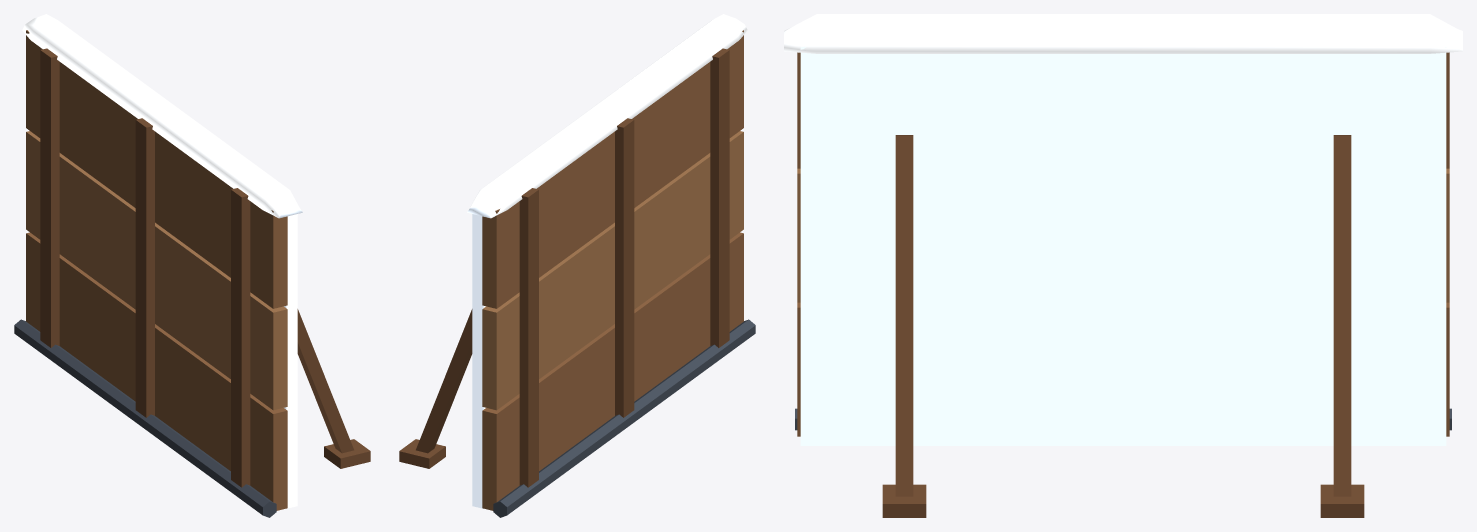
File: ski-ramp-folded.glb
3 renders of one model, left to right at view 1: azimuth 30°, elevation 25°; view 2: azimuth 150°, elevation 25°; view 3: azimuth 270°, elevation 25°, orthographic. The views are drawn at different scales.
Visible parts, largest first — view 1: ski-ramp-folded; view 2: ski-ramp-folded; view 3: ski-ramp-folded.
Boxes of the visible parts, <box> form: ski-ramp-folded: <box>14,14,370,517</box>; ski-ramp-folded: <box>399,14,755,517</box>; ski-ramp-folded: <box>784,14,1462,517</box>.
Size of the model in its own units: 1.97 by 4.32 by 6.2.
